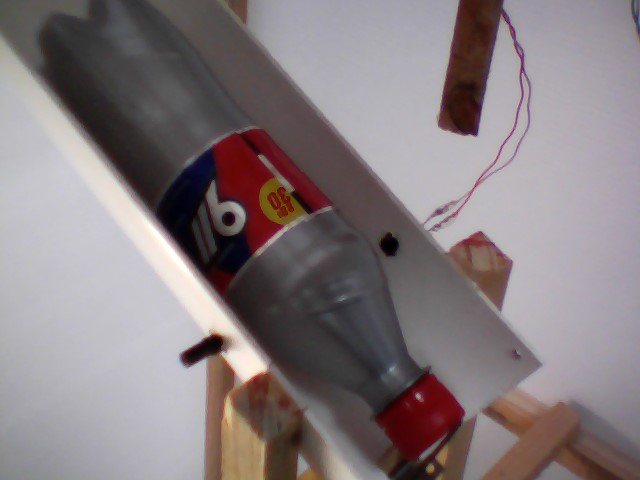plastico: (20, 3, 470, 464)
